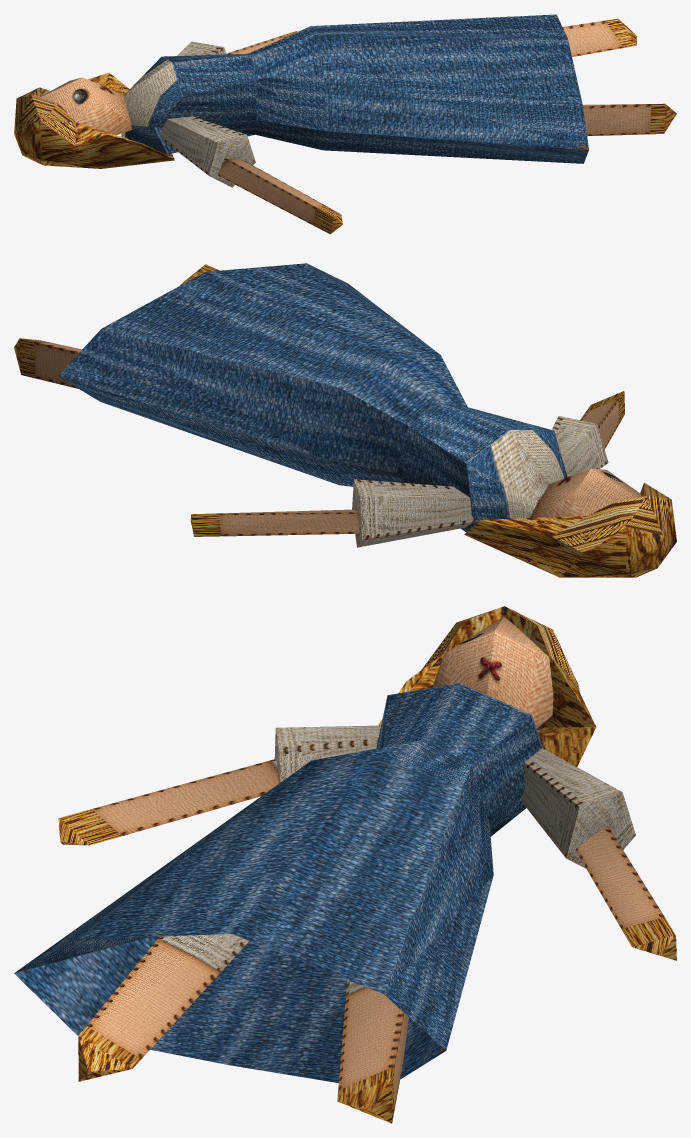
Rendered from mm9_deco_girldolly.glb.
3 views of the same model, one above another, from view 1: azimuth 30°, elevation 25°; view 2: azimuth 150°, elevation 25°; view 3: azimuth 270°, elevation 25° (orthographic). The views are drawn at different scales.
Visible parts, largest first — view 1: Girldolly; view 2: Girldolly; view 3: Girldolly.
Boxes of the visible parts, x1,y1,x2,y2 form: Girldolly: (14,14,676,234); Girldolly: (14,263,676,577); Girldolly: (14,606,676,1123).
Bounding box in the file's own units: 0.6332 × 0.1089 × 0.4012.
2 materials, 2 textured.
